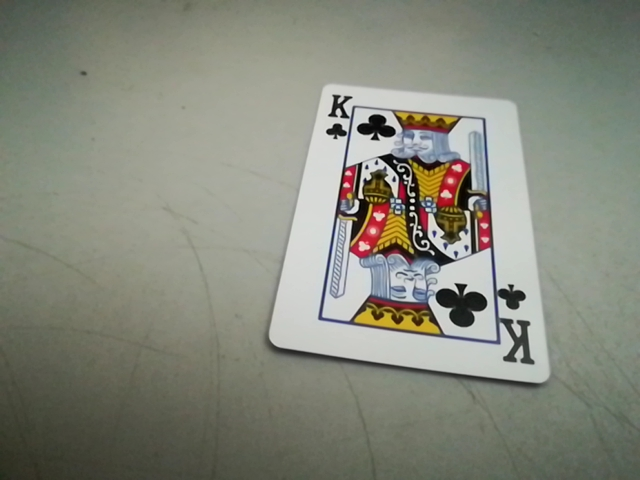mh k: (497, 285, 538, 373), (322, 87, 352, 139)
